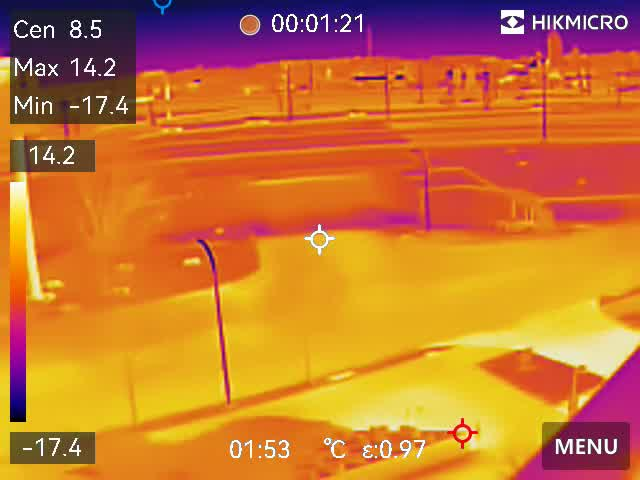vehicle: (160, 119, 192, 136), (240, 115, 273, 129), (523, 101, 549, 112), (345, 107, 366, 119)
